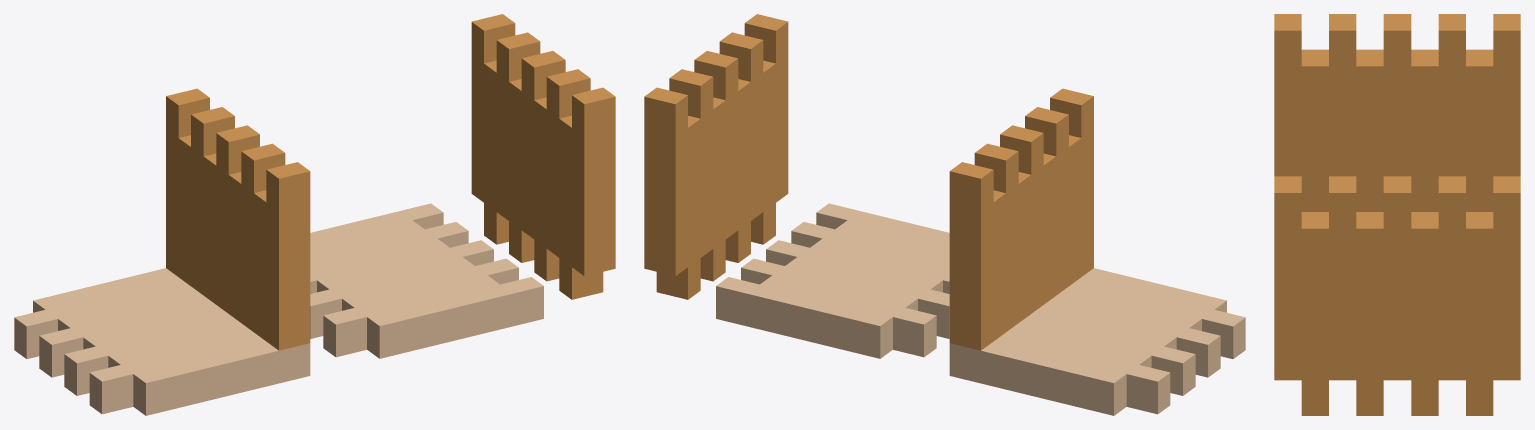
The picture shows the model from 3 angles, left to right: view 1: azimuth 30°, elevation 25°; view 2: azimuth 150°, elevation 25°; view 3: azimuth 270°, elevation 25°; orthographic projection. The views are drawn at different scales.
Bounding box in the file's own units: 0.6403 × 0.25 × 0.25.
